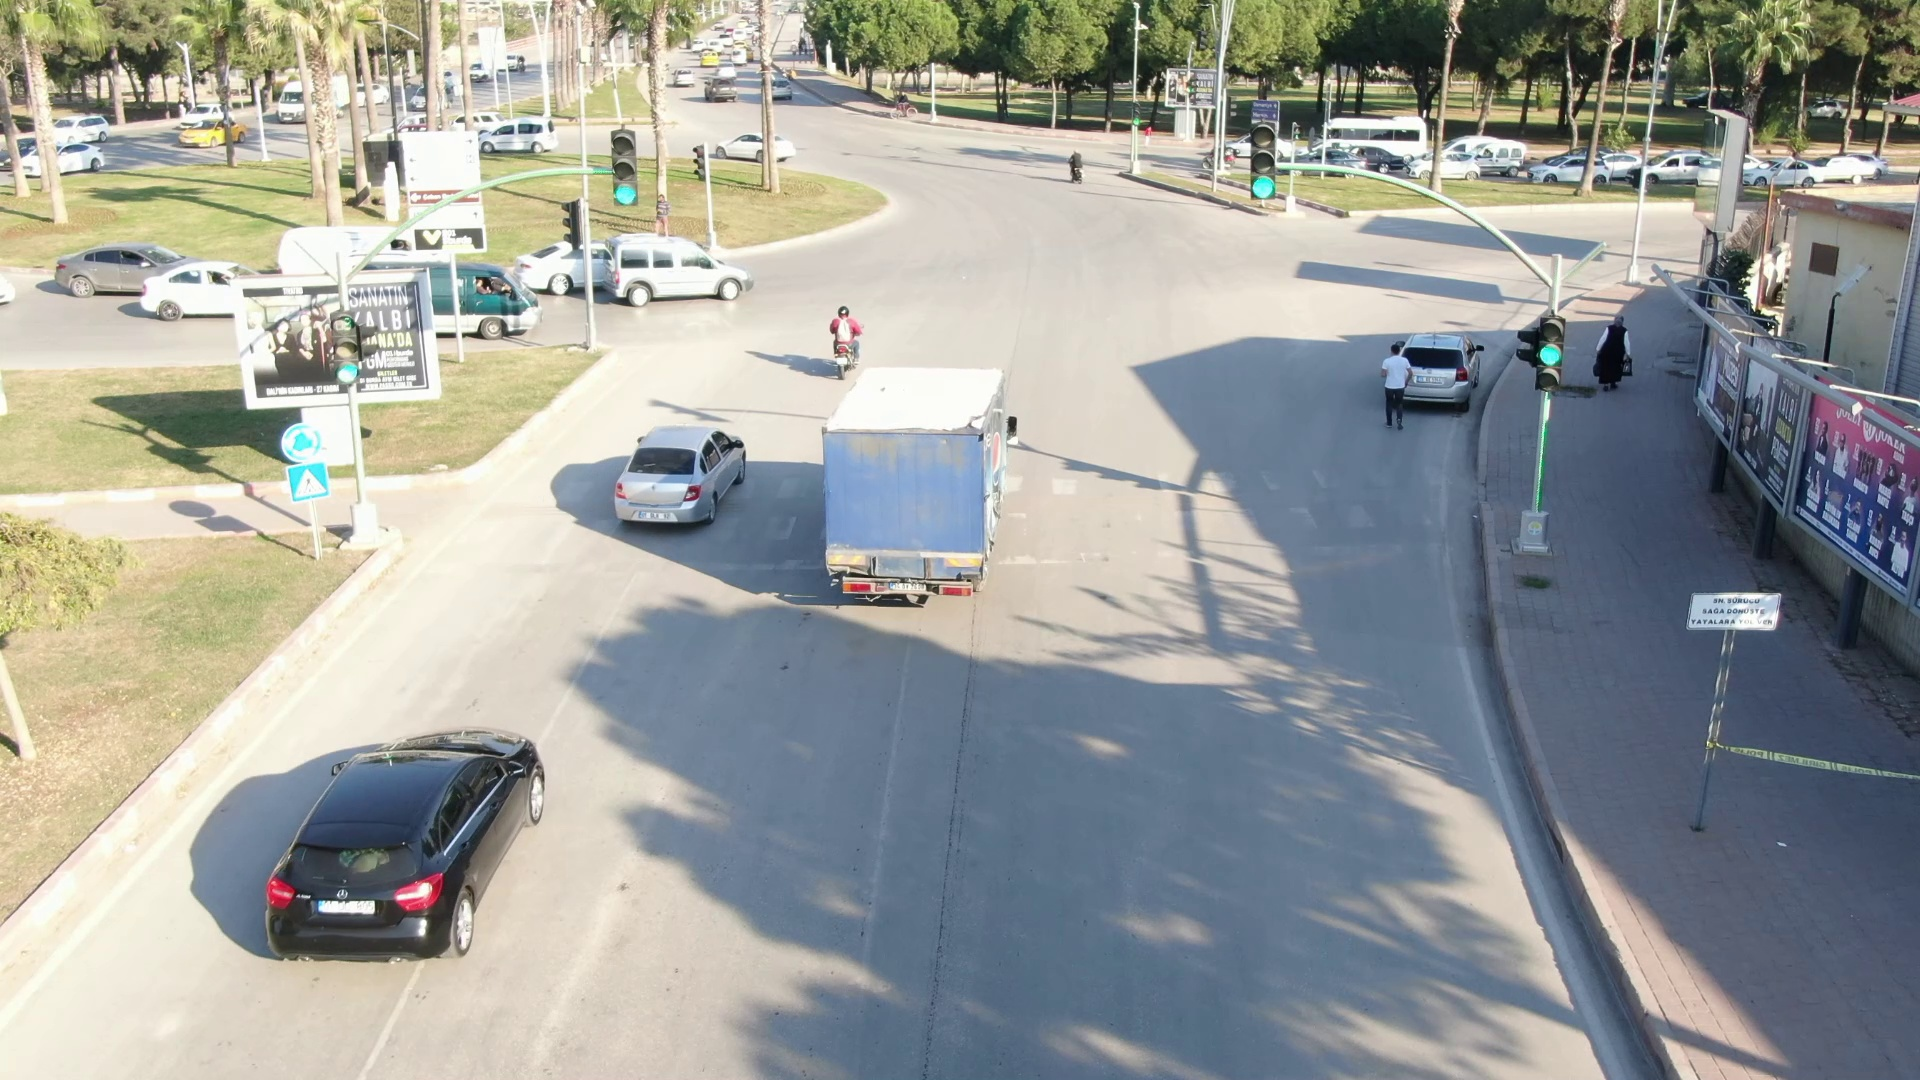car: (252, 707, 546, 991), (600, 398, 744, 546), (601, 229, 761, 312), (46, 235, 197, 304), (429, 257, 547, 345), (1518, 150, 1617, 193), (472, 114, 565, 158), (713, 124, 802, 167), (172, 114, 255, 151), (699, 73, 740, 103)
person: (1587, 306, 1641, 396), (1375, 336, 1416, 435)
